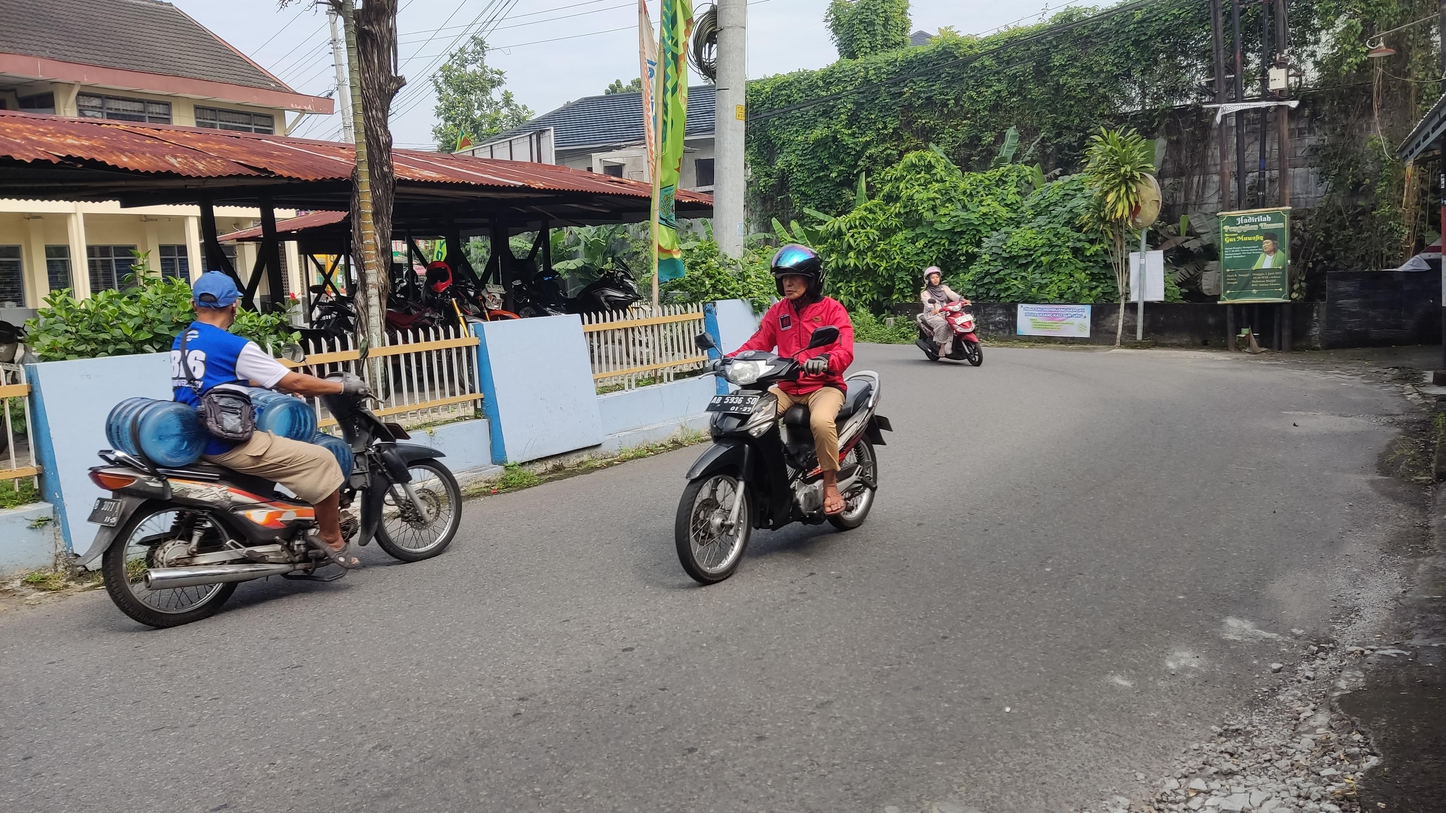helm: (767, 241, 828, 307), (921, 265, 944, 288)
nohelm: (187, 268, 252, 332)
riding: (78, 267, 470, 632), (672, 231, 897, 597), (913, 263, 986, 372)
